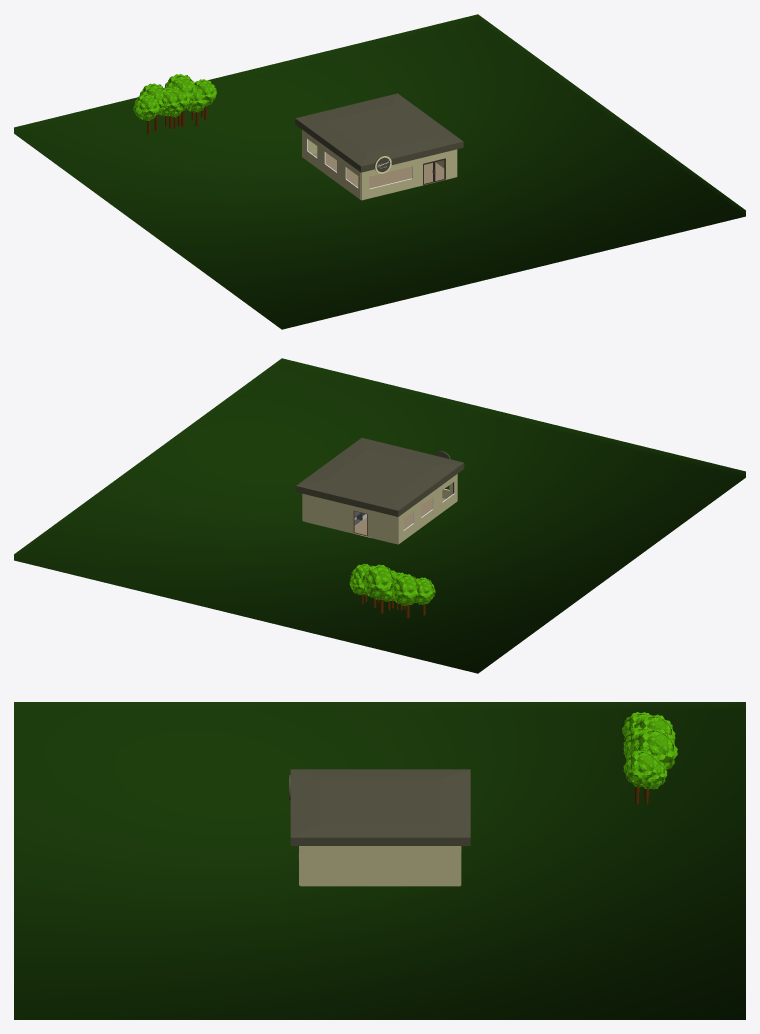
The picture shows the model from 3 angles, top to bottom: view 1: azimuth 30°, elevation 25°; view 2: azimuth 150°, elevation 25°; view 3: azimuth 270°, elevation 25°; orthographic projection. The views are drawn at different scales.
Parts seen in each view (by area): view 1: Plane, Cube.060, wall_2.003, wall_2.001, floor, Icosphere.007; view 2: Plane, Cube.060, wall_2.002, wall_2.001, Icosphere.012, Icosphere.001; view 3: Plane, Cube.060, wall_2, Icosphere.012, Icosphere.009.
Boxes of the visible parts, x1=… form: Plane: x1=14, y1=14, x2=745, y2=329; Cube.060: x1=295, y1=93, x2=463, y2=172; wall_2.003: x1=361, y1=149, x2=457, y2=200; wall_2.001: x1=302, y1=130, x2=360, y2=199; floor: x1=313, y1=152, x2=451, y2=200; Icosphere.007: x1=133, y1=94, x2=160, y2=134; Plane: x1=14, y1=358, x2=745, y2=673; Cube.060: x1=296, y1=438, x2=464, y2=516; wall_2.002: x1=302, y1=494, x2=398, y2=544; wall_2.001: x1=398, y1=474, x2=457, y2=543; Icosphere.012: x1=361, y1=564, x2=393, y2=613; Icosphere.001: x1=390, y1=574, x2=418, y2=618; Plane: x1=14, y1=702, x2=745, y2=1019; Cube.060: x1=290, y1=769, x2=470, y2=845; wall_2: x1=300, y1=846, x2=460, y2=886; Icosphere.012: x1=629, y1=728, x2=677, y2=796; Icosphere.009: x1=623, y1=750, x2=658, y2=804.
Bounding box in the file's own units: 42.7 × 4.44 × 42.7.
